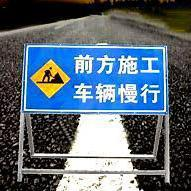sign: (24, 45, 168, 114)
